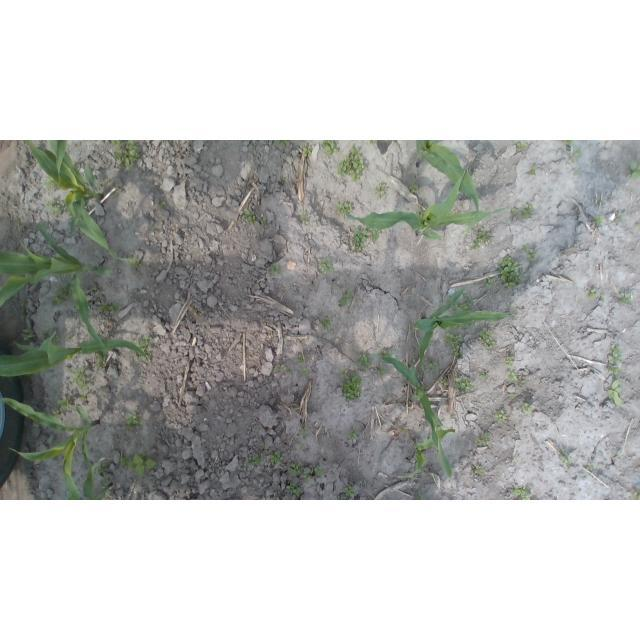Maize: (22, 141, 138, 264), (0, 222, 106, 351), (342, 169, 507, 240), (2, 397, 101, 500), (378, 357, 452, 480), (412, 287, 508, 374), (0, 327, 148, 376), (414, 140, 480, 234), (398, 430, 456, 479), (83, 457, 112, 500), (49, 141, 68, 182)
Weeds: (111, 140, 142, 172), (336, 147, 364, 182), (121, 452, 158, 476), (498, 255, 522, 289), (338, 371, 362, 402), (604, 347, 624, 378), (131, 336, 153, 362), (51, 283, 73, 306), (472, 228, 493, 250), (607, 379, 622, 407), (353, 228, 371, 251), (71, 368, 88, 392), (448, 296, 472, 312), (479, 328, 497, 349), (512, 204, 534, 220), (454, 376, 474, 393), (512, 484, 533, 500), (45, 198, 63, 216), (126, 412, 144, 428), (561, 449, 576, 468), (626, 160, 640, 180), (318, 258, 334, 275), (335, 200, 353, 215), (322, 141, 339, 156), (357, 354, 372, 371), (288, 480, 303, 497), (99, 301, 120, 313), (522, 244, 537, 260), (57, 396, 73, 410), (445, 333, 462, 346), (339, 292, 353, 307), (373, 184, 387, 198), (244, 209, 257, 224), (289, 462, 304, 475), (248, 454, 262, 467), (95, 461, 107, 476), (477, 433, 490, 446), (520, 401, 532, 415), (271, 451, 283, 465), (43, 176, 57, 188), (344, 484, 356, 497), (321, 316, 332, 330), (427, 360, 441, 371), (93, 287, 104, 301), (304, 468, 313, 485), (372, 227, 381, 243), (566, 148, 582, 157), (495, 410, 506, 423), (130, 263, 150, 270), (452, 345, 463, 357), (484, 278, 496, 289), (594, 215, 605, 227), (348, 428, 359, 440), (23, 328, 34, 340), (619, 293, 632, 303), (586, 289, 597, 300), (617, 211, 628, 222), (376, 365, 385, 378), (516, 140, 529, 149), (409, 184, 422, 193), (273, 141, 289, 148), (381, 348, 392, 358), (507, 371, 517, 382), (271, 264, 282, 274), (299, 426, 309, 437), (95, 360, 106, 370), (51, 334, 60, 346), (439, 376, 449, 386), (505, 356, 514, 367), (275, 364, 285, 373), (315, 468, 325, 477), (473, 466, 484, 474), (304, 146, 312, 156), (114, 183, 120, 196), (530, 164, 537, 175), (560, 141, 575, 146), (588, 464, 597, 472), (300, 212, 309, 220), (296, 355, 303, 365), (261, 216, 268, 226), (151, 224, 159, 232), (417, 492, 425, 500), (633, 492, 640, 501), (480, 373, 488, 380), (287, 368, 294, 375), (302, 369, 308, 376), (81, 395, 87, 402), (520, 379, 526, 385), (413, 395, 419, 401), (597, 199, 603, 205), (464, 325, 471, 330), (65, 334, 72, 339), (280, 176, 285, 183), (15, 223, 21, 228), (369, 140, 376, 144), (298, 445, 302, 452), (160, 202, 165, 207), (573, 158, 578, 163), (574, 172, 579, 177), (259, 444, 265, 448), (268, 180, 273, 184), (511, 392, 516, 396), (252, 144, 256, 149)
